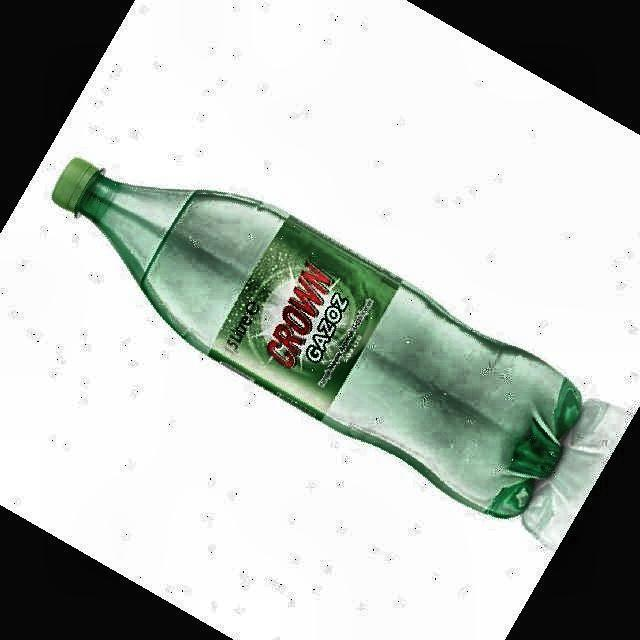plastic: (54, 159, 581, 517)
